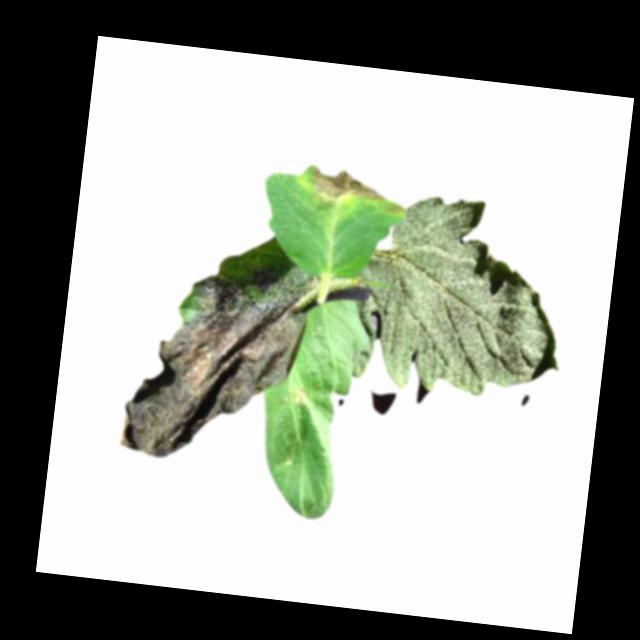Late_blight: (119, 249, 315, 475), (307, 164, 393, 210), (289, 387, 313, 411)
